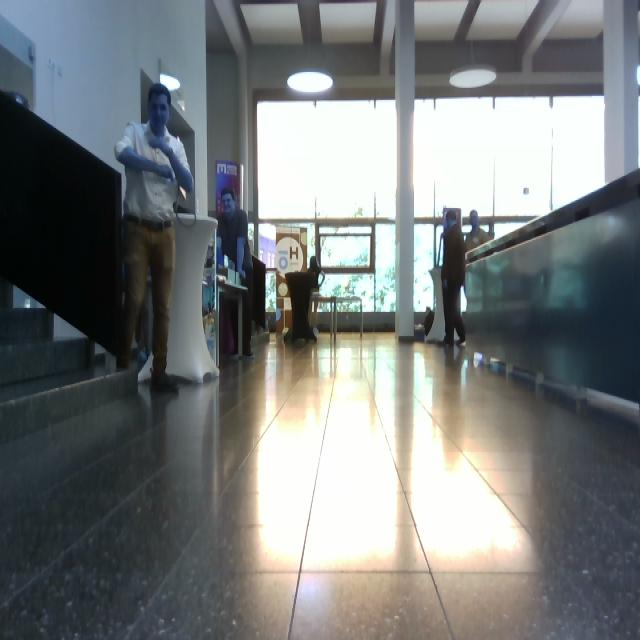light bulb: (449, 41, 497, 89), (449, 65, 497, 89), (287, 70, 334, 93), (160, 73, 181, 92), (9, 90, 30, 109), (636, 64, 640, 86)
person: (114, 82, 195, 393), (217, 188, 255, 360), (437, 209, 467, 348), (465, 210, 493, 252)
pillar: (165, 213, 221, 384), (394, 1, 416, 341)
tiled floor: (1, 328, 639, 638)
window: (256, 97, 398, 322)
